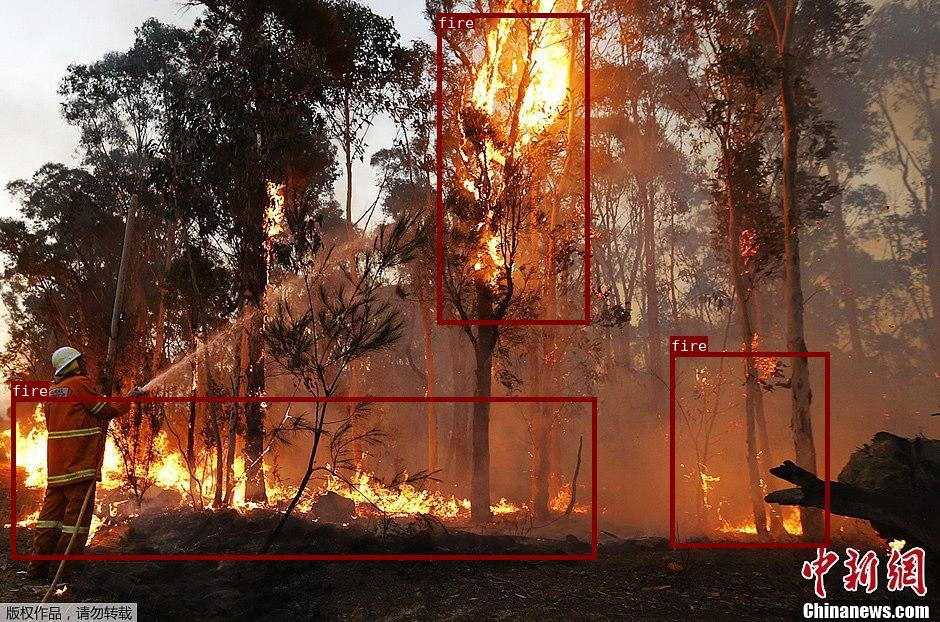fire: (10, 397, 595, 559), (436, 12, 589, 323), (669, 351, 829, 546)
